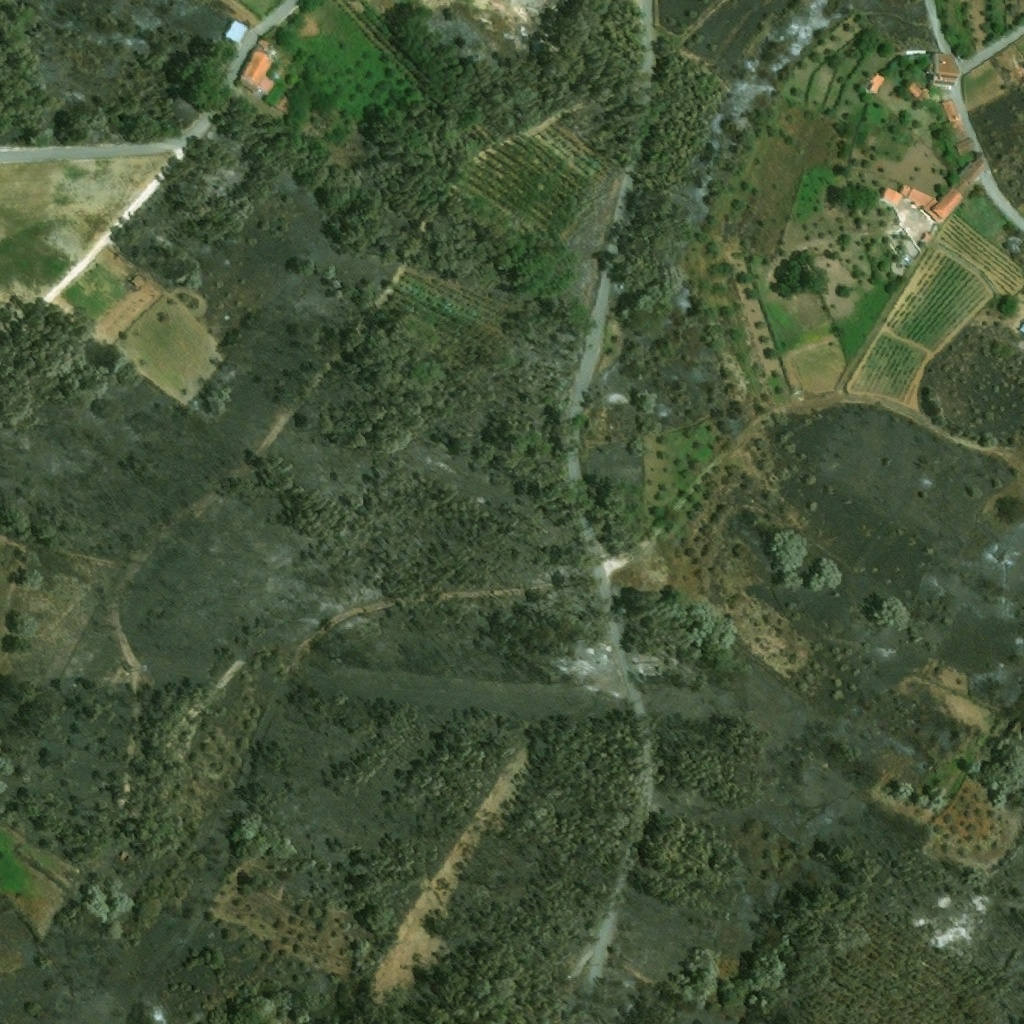0 no-damage: (900, 183, 939, 221), (927, 53, 960, 94), (241, 49, 273, 91), (943, 99, 967, 143), (932, 188, 964, 219), (275, 94, 300, 118), (225, 20, 248, 43), (907, 82, 929, 103), (883, 186, 904, 204), (953, 176, 971, 197), (955, 137, 974, 156), (962, 166, 981, 184), (869, 72, 885, 93), (259, 74, 276, 91), (971, 157, 986, 172)
